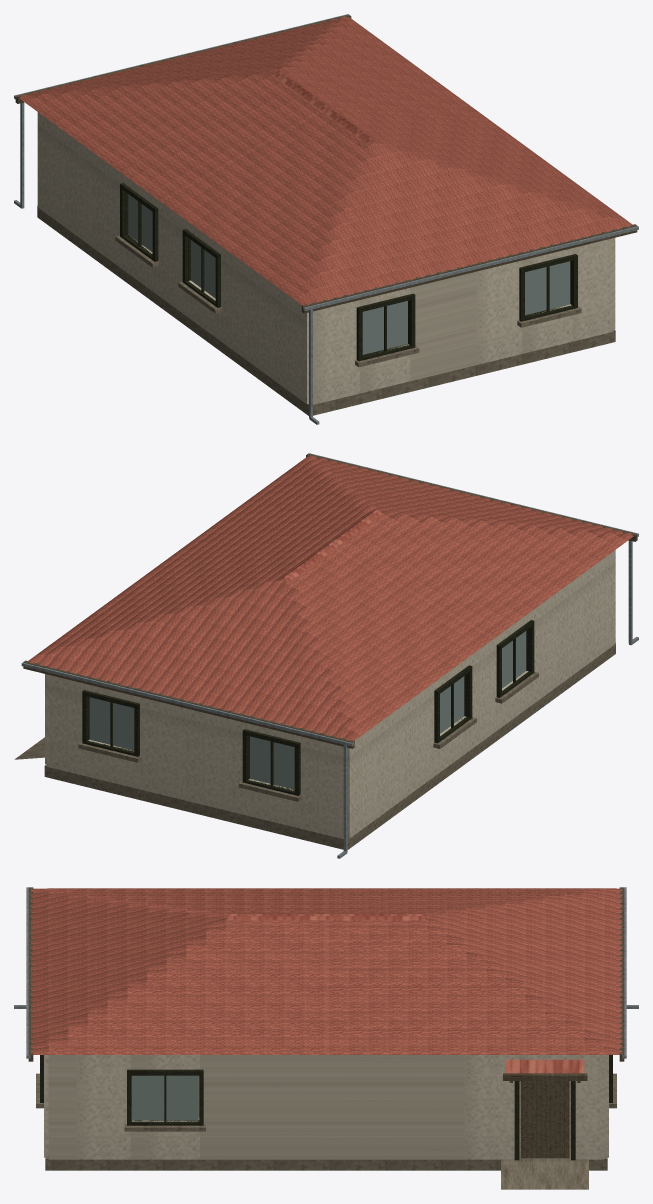
3 views of the same model, one above another, from view 1: azimuth 30°, elevation 25°; view 2: azimuth 150°, elevation 25°; view 3: azimuth 270°, elevation 25° (orthographic). The views are drawn at different scales.
Visible parts, largest first — view 1: H05_TELHAS, H05_LATERAIS, H05_FUNDOS, H05_FUNDACAO, H05_VIDROS_RECUADOS, H05_CAIXILHOS, H05_BEIRAIS, H05_CALHA, H05_PEITORIS, H05_CUMEEIRA, H05_CONDUTOR_PLUVIAL, H05_MONTANTES; view 2: H05_TELHAS, H05_LATERAIS, H05_FUNDOS, H05_FUNDACAO, H05_VIDROS_RECUADOS, H05_CAIXILHOS, H05_BEIRAIS, H05_CALHA, H05_PEITORIS, H05_CONDUTOR_PLUVIAL, H05_CUMEEIRA, H05_MONTANTES; view 3: H05_TELHAS, H05_FACHADA, H05_FUNDACAO, H05_PORTA_FOLHA, H05_VIDROS_RECUADOS, H05_RAMPA, H05_CAIXILHOS, H05_BEIRAIS, H05_CUMEEIRA, H05_ALPENDRE_COBERTURA, H05_CALHA, H05_LATERAIS (+3 smaller).
Part boxes in pixels (x1,y1,x2,y2): H05_TELHAS: (19,16,632,305); H05_LATERAIS: (313,238,613,404); H05_FUNDOS: (37,112,308,404); H05_FUNDACAO: (37,206,615,415); H05_VIDROS_RECUADOS: (128,194,570,354); H05_CAIXILHOS: (120,183,577,361); H05_BEIRAIS: (15,14,637,313); H05_CALHA: (14,14,638,310); H05_PEITORIS: (115,235,581,367); H05_CUMEEIRA: (274,70,378,144); H05_CONDUTOR_PLUVIAL: (20,102,312,418); H05_MONTANTES: (138,201,549,351); H05_TELHAS: (28,455,633,740); H05_LATERAIS: (46,674,343,838); H05_FUNDOS: (347,550,615,838); H05_FUNDACAO: (44,642,615,849); H05_VIDROS_RECUADOS: (89,631,526,789); H05_CAIXILHOS: (82,620,534,795); H05_BEIRAIS: (23,453,637,748); H05_CALHA: (21,453,638,746); H05_PEITORIS: (78,671,538,801); H05_CONDUTOR_PLUVIAL: (343,540,632,852); H05_CUMEEIRA: (279,509,382,582); H05_MONTANTES: (110,638,515,786); H05_TELHAS: (31,888,621,1054); H05_FACHADA: (48,1055,604,1159); H05_FUNDACAO: (45,1076,607,1170); H05_PORTA_FOLHA: (521,1081,569,1158); H05_VIDROS_RECUADOS: (132,1075,198,1120); H05_RAMPA: (501,1161,588,1189); H05_CAIXILHOS: (40,1055,612,1125); H05_BEIRAIS: (28,887,624,1061); H05_CUMEEIRA: (228,914,424,920); H05_ALPENDRE_COBERTURA: (505,1059,584,1073); H05_CALHA: (26,887,626,1058); H05_LATERAIS: (44,1055,608,1157).
Size of the model in its own units: 9.27 by 4.28 by 13.5.
Materials: 8 (7 with a texture image).
